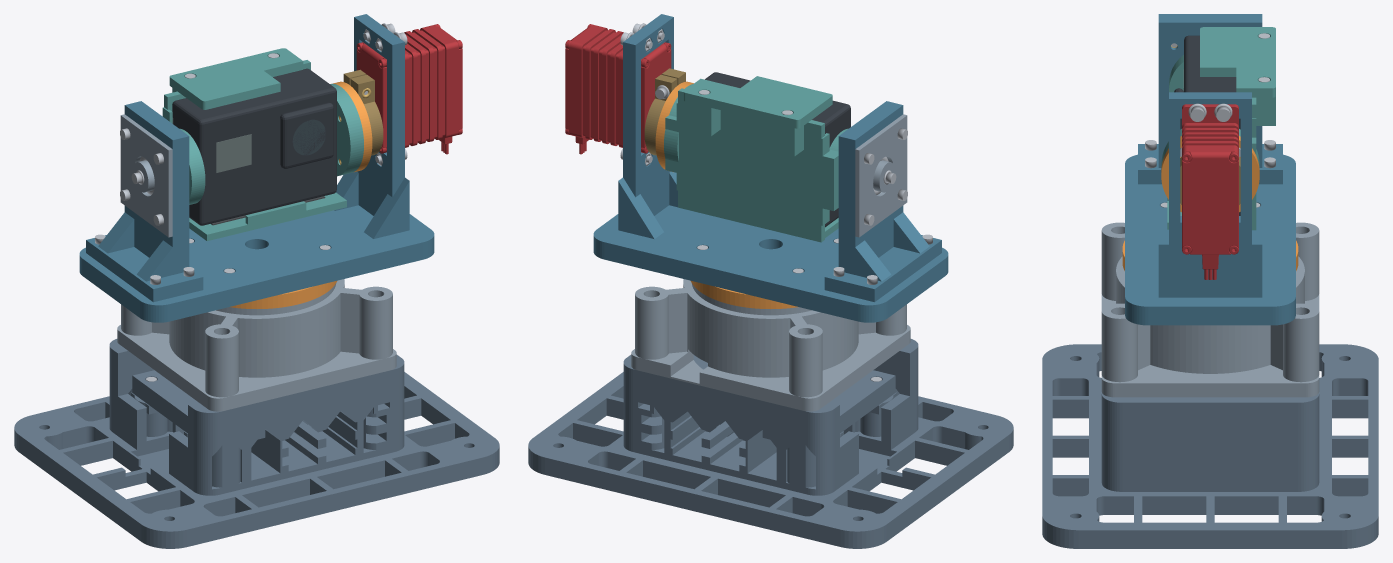
Rendered from mks_gimbal_assembly.glb.
3 renders of one model, left to right at view 1: azimuth 30°, elevation 25°; view 2: azimuth 150°, elevation 25°; view 3: azimuth 270°, elevation 25°, orthographic. The views are drawn at different scales.
Visible parts, largest first — view 1: 01_Base, 08_U_Frame, 02_Pan_Bearing_Carrier, HERO8_Approx_Body, 15_Removable_Left_Support, MKS_Tilt, 09_HERO8_Cradle, 10_HERO8_Top_Clamp, 13_Left_Bearing_Cap, HERO8_Approx_Lens_Cover, 16_Pan_Front_Mount_Bridge, 12_Tilt_Clamp_Collar (+5 smaller); view 2: 01_Base, 08_U_Frame, 02_Pan_Bearing_Carrier, 09_HERO8_Cradle, 15_Removable_Left_Support, MKS_Tilt, 10_HERO8_Top_Clamp, 13_Left_Bearing_Cap, 16_Pan_Front_Mount_Bridge, HERO8_Approx_Body, 12_Tilt_Clamp_Collar, 05_Pan_25T_Hub (+2 smaller); view 3: 01_Base, 08_U_Frame, 02_Pan_Bearing_Carrier, MKS_Tilt, 15_Removable_Left_Support, 10_HERO8_Top_Clamp, 09_HERO8_Cradle, HERO8_Approx_Body, 11_Tilt_25T_Hub.
Part boxes in pixels (box(x1,y1,x2,y2)): 01_Base: box(14, 339, 499, 548); 08_U_Frame: box(79, 14, 434, 322); 02_Pan_Bearing_Carrier: box(117, 279, 396, 411); HERO8_Approx_Body: box(172, 68, 336, 225); 15_Removable_Left_Support: box(86, 101, 203, 302); MKS_Tilt: box(356, 24, 462, 154); 09_HERO8_Cradle: box(162, 60, 363, 241); 10_HERO8_Top_Clamp: box(169, 48, 303, 109); 13_Left_Bearing_Cap: box(120, 114, 172, 237); HERO8_Approx_Lens_Cover: box(280, 102, 333, 168); 16_Pan_Front_Mount_Bridge: box(132, 370, 197, 433); 12_Tilt_Clamp_Collar: box(343, 69, 383, 155); 01_Base: box(528, 339, 1013, 548); 08_U_Frame: box(593, 14, 948, 322); 02_Pan_Bearing_Carrier: box(631, 279, 910, 411); 09_HERO8_Cradle: box(664, 84, 848, 242); 15_Removable_Left_Support: box(824, 101, 941, 302); MKS_Tilt: box(565, 24, 671, 154); 10_HERO8_Top_Clamp: box(683, 76, 832, 128); 13_Left_Bearing_Cap: box(855, 114, 907, 237); 16_Pan_Front_Mount_Bridge: box(830, 370, 895, 433); HERO8_Approx_Body: box(705, 72, 850, 227); 12_Tilt_Clamp_Collar: box(644, 68, 685, 155); 05_Pan_25T_Hub: box(691, 281, 797, 308); 01_Base: box(1042, 344, 1378, 548); 08_U_Frame: box(1125, 92, 1295, 325); 02_Pan_Bearing_Carrier: box(1101, 222, 1319, 397); MKS_Tilt: box(1182, 104, 1238, 279); 15_Removable_Left_Support: box(1138, 14, 1282, 184); 10_HERO8_Top_Clamp: box(1200, 27, 1275, 97); 09_HERO8_Cradle: box(1161, 55, 1275, 230); HERO8_Approx_Body: box(1184, 35, 1240, 215); 11_Tilt_25T_Hub: box(1161, 136, 1259, 212).
Size of the model in its own units: 0.1777 by 0.1811 by 0.13.
